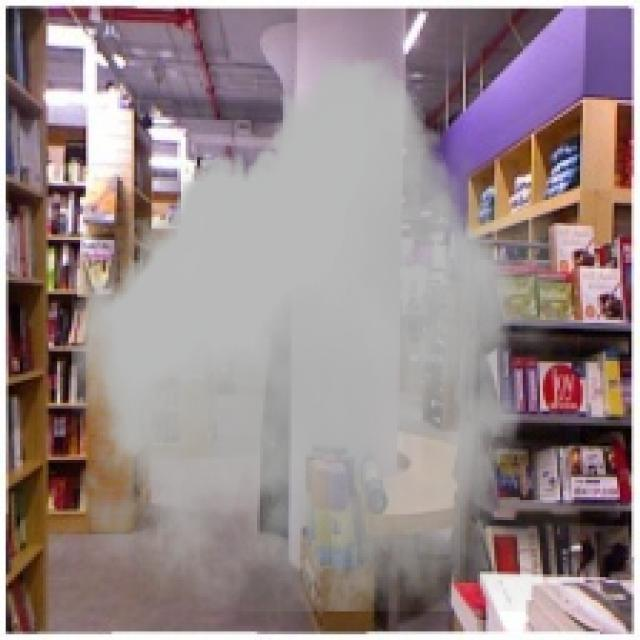Smoke: (63, 57, 580, 612)
